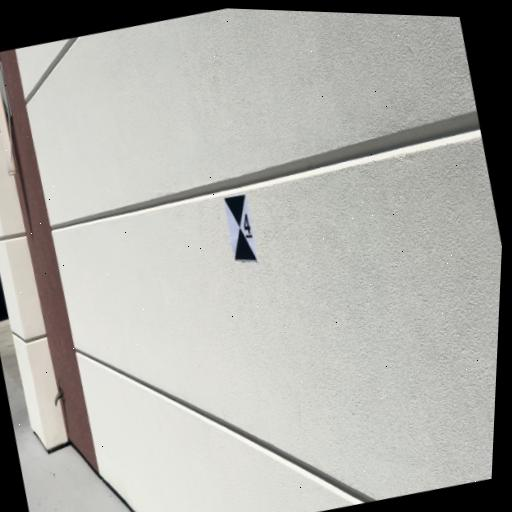target4: (224, 194, 259, 261)
